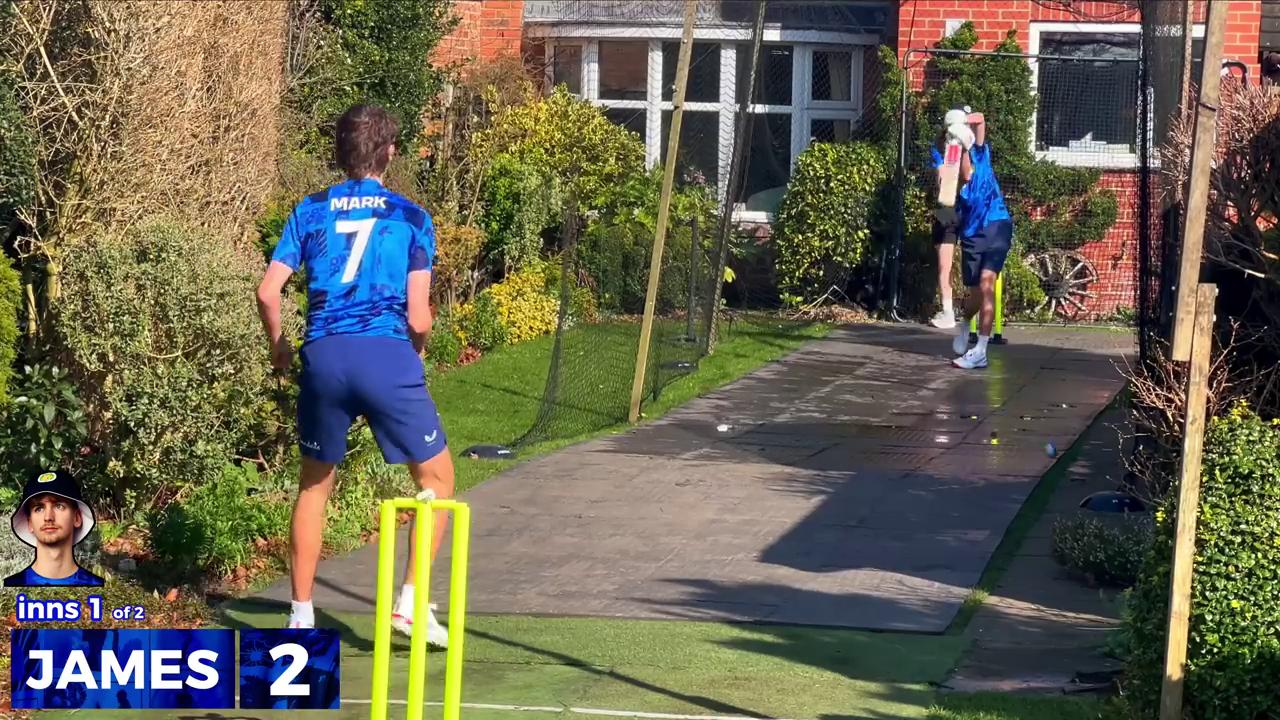ball: (1040, 439, 1060, 460)
